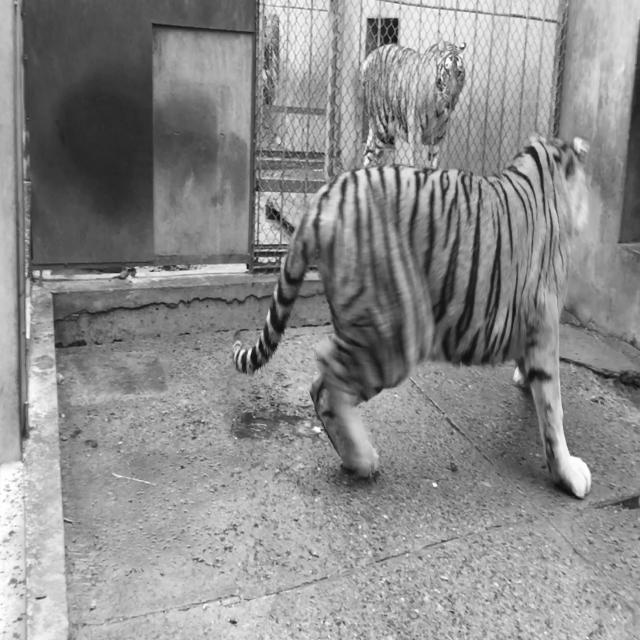Tiger: (231, 133, 592, 498), (355, 37, 467, 170)
